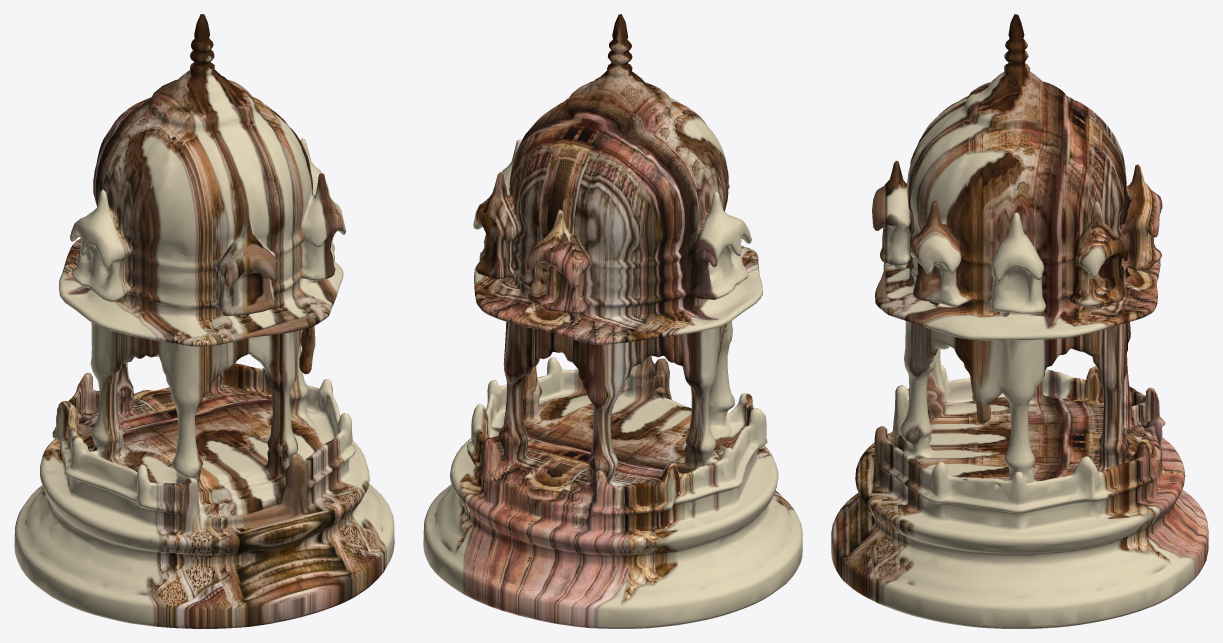
Rendered from chhatri_pavilion.glb.
The picture shows the model from 3 angles, left to right: view 1: azimuth 30°, elevation 25°; view 2: azimuth 150°, elevation 25°; view 3: azimuth 270°, elevation 25°; orthographic projection.
Visible parts, largest first — view 1: geometry_0; view 2: geometry_0; view 3: geometry_0.
Boxes of the visible parts, left/top/right/bottom form: geometry_0: left=14, top=14, right=394, bottom=628; geometry_0: left=423, top=14, right=802, bottom=628; geometry_0: left=831, top=14, right=1208, bottom=628.
Size of the model in its own units: 1.26 by 1.97 by 1.25.
1 material, 1 textured.
